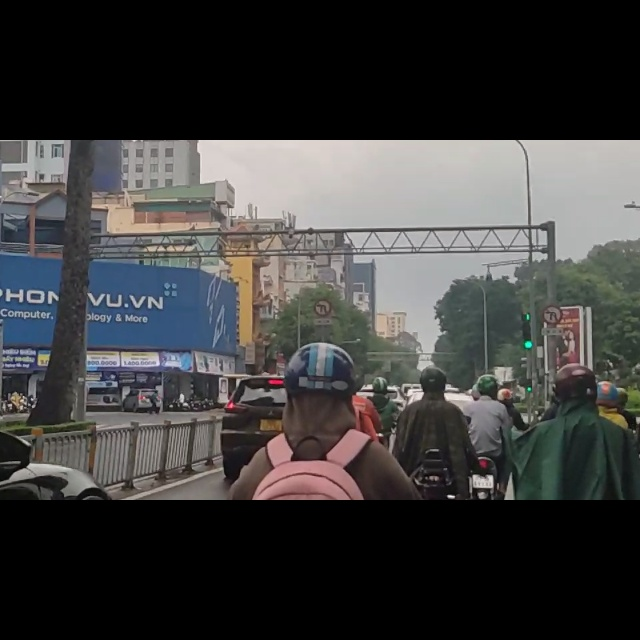bien_cam: (544, 293, 564, 327), (313, 280, 333, 314)
